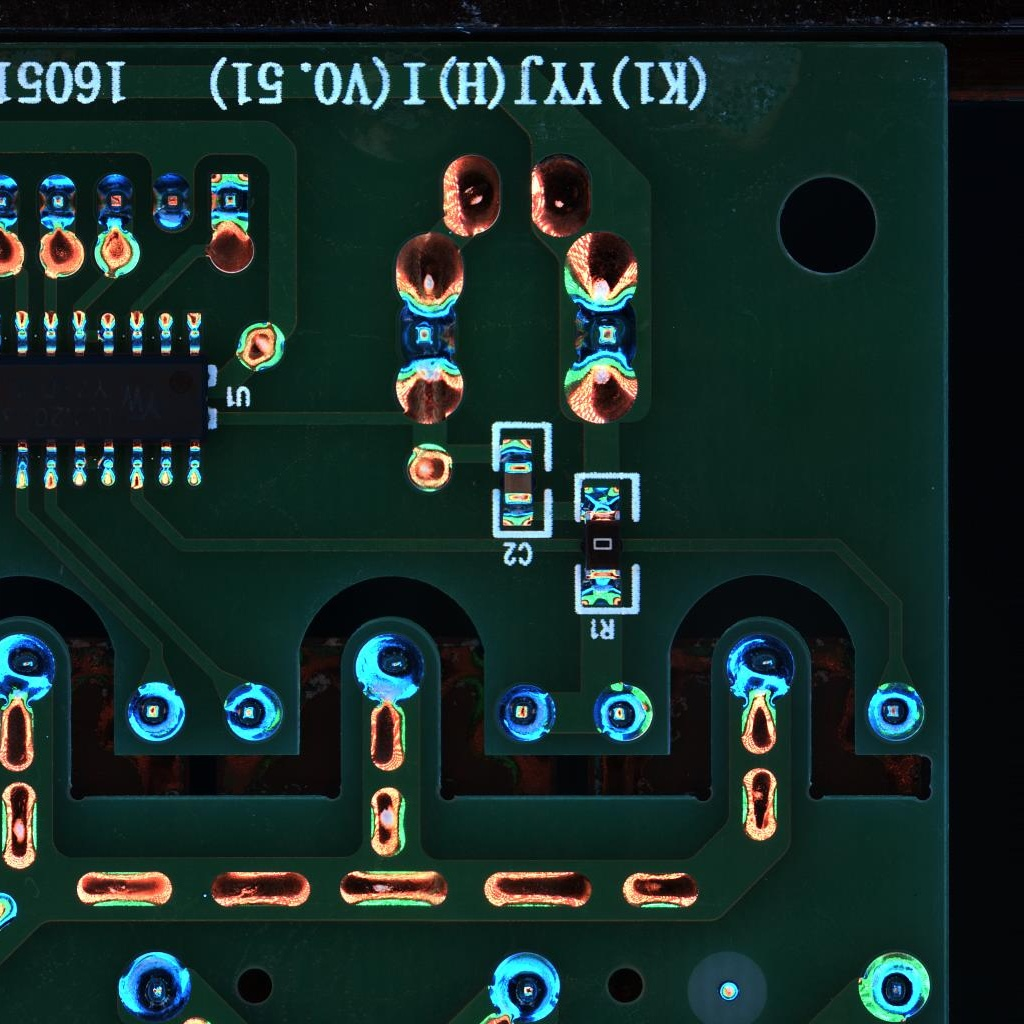spot: (483, 947, 564, 1024), (856, 948, 931, 1023), (353, 630, 427, 704), (724, 630, 797, 704), (116, 952, 195, 1020), (395, 299, 459, 376), (572, 299, 636, 369), (593, 678, 657, 743), (1, 632, 57, 706), (494, 680, 558, 744), (125, 680, 188, 745), (221, 682, 287, 744), (863, 681, 926, 744), (207, 173, 250, 234), (150, 172, 192, 233), (95, 173, 132, 234), (39, 172, 76, 232), (1, 175, 19, 228)
